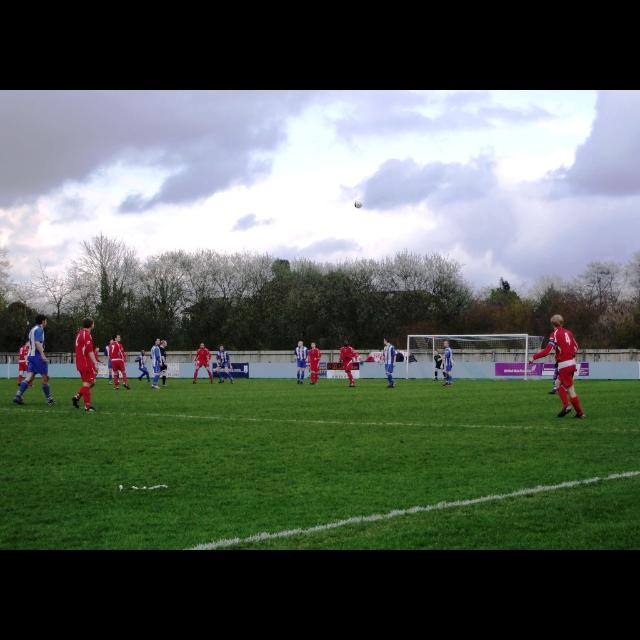Football: (355, 199, 361, 207)
